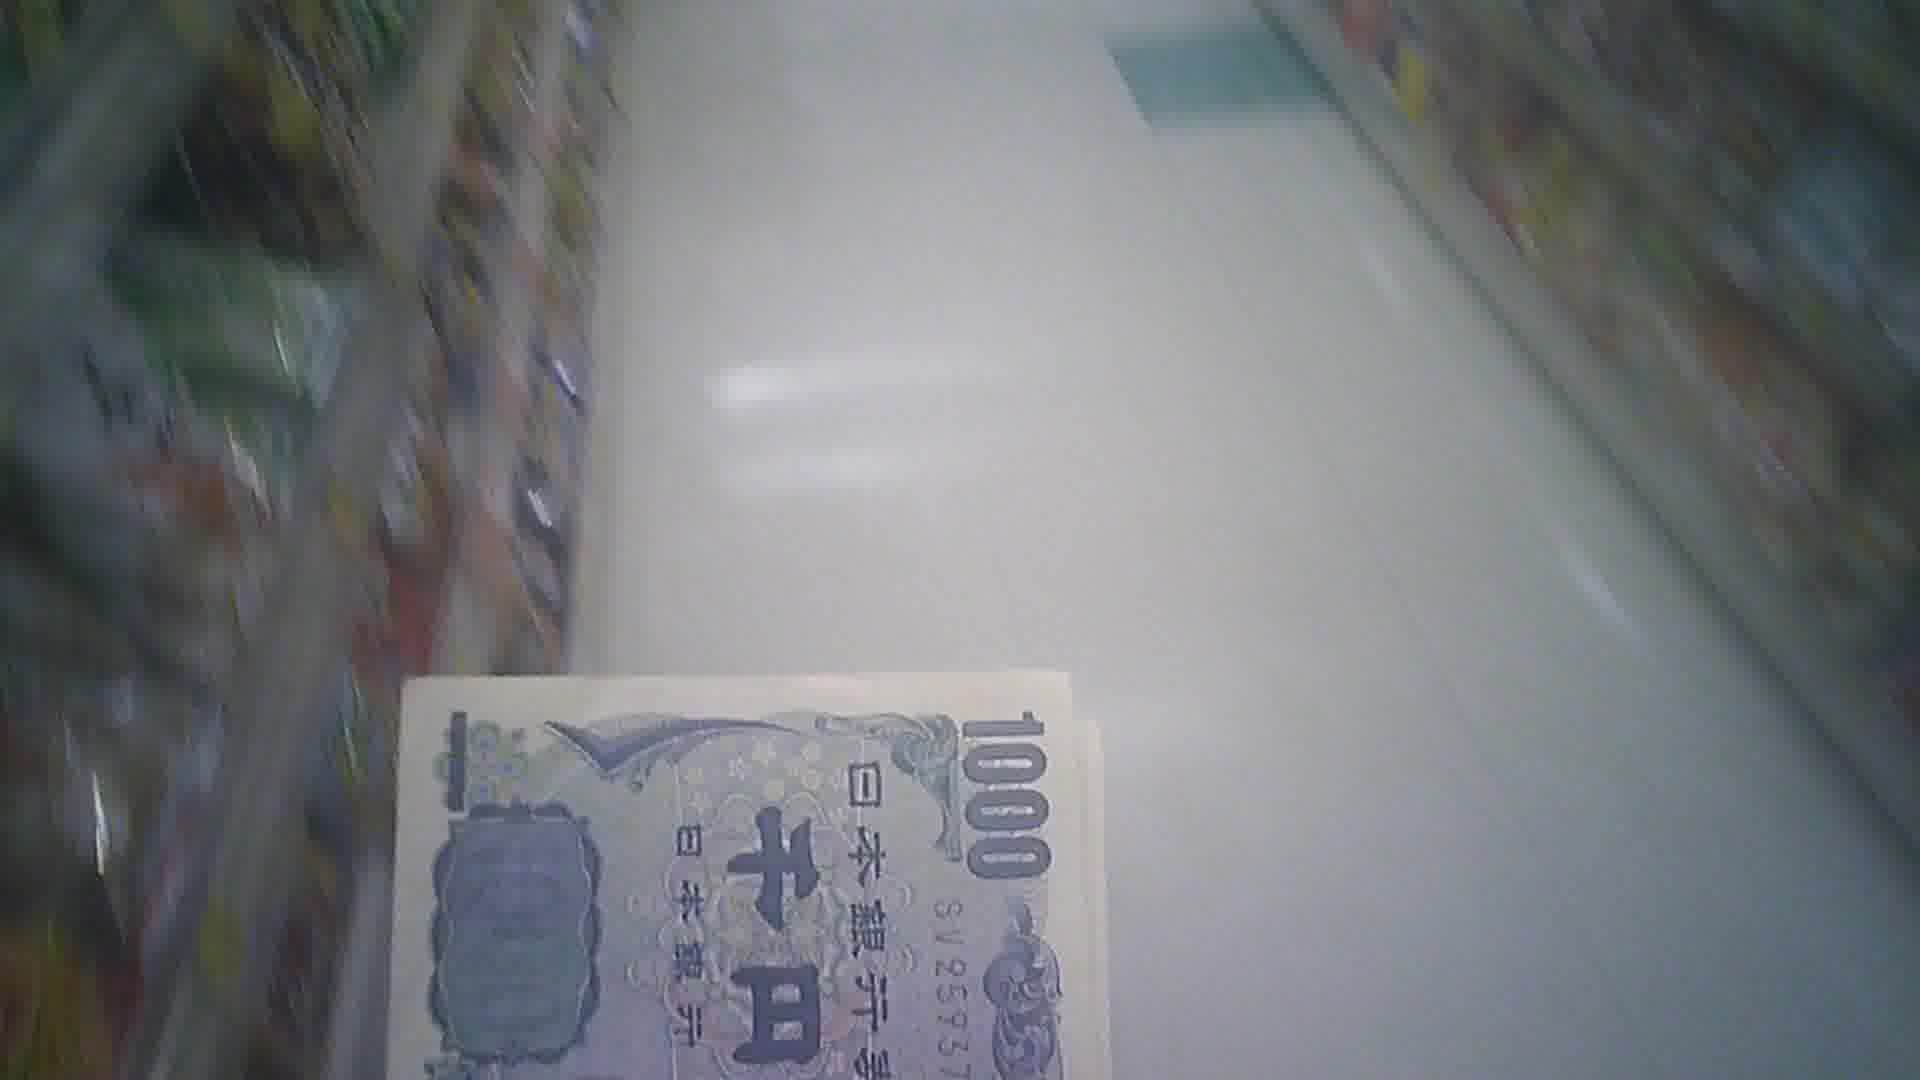1,000 Yen: (375, 659, 1105, 1079)
